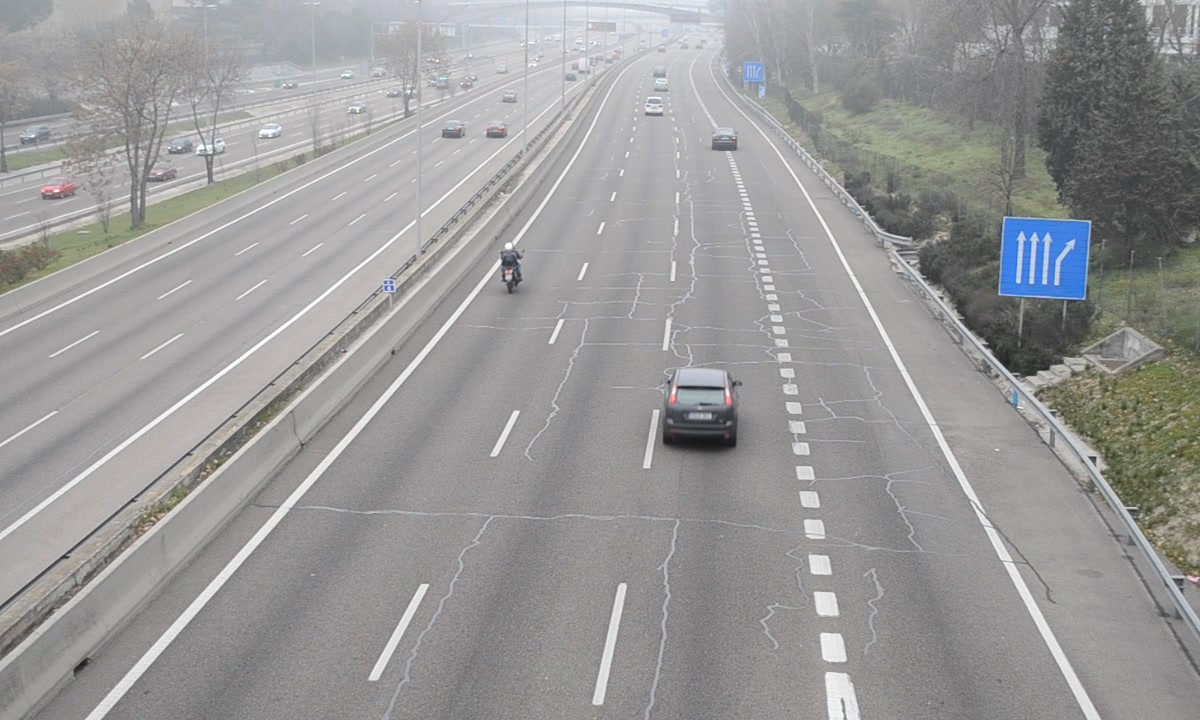car: (662, 369, 735, 445), (712, 128, 737, 150), (645, 97, 664, 117)
motorcycle: (496, 243, 524, 299)
